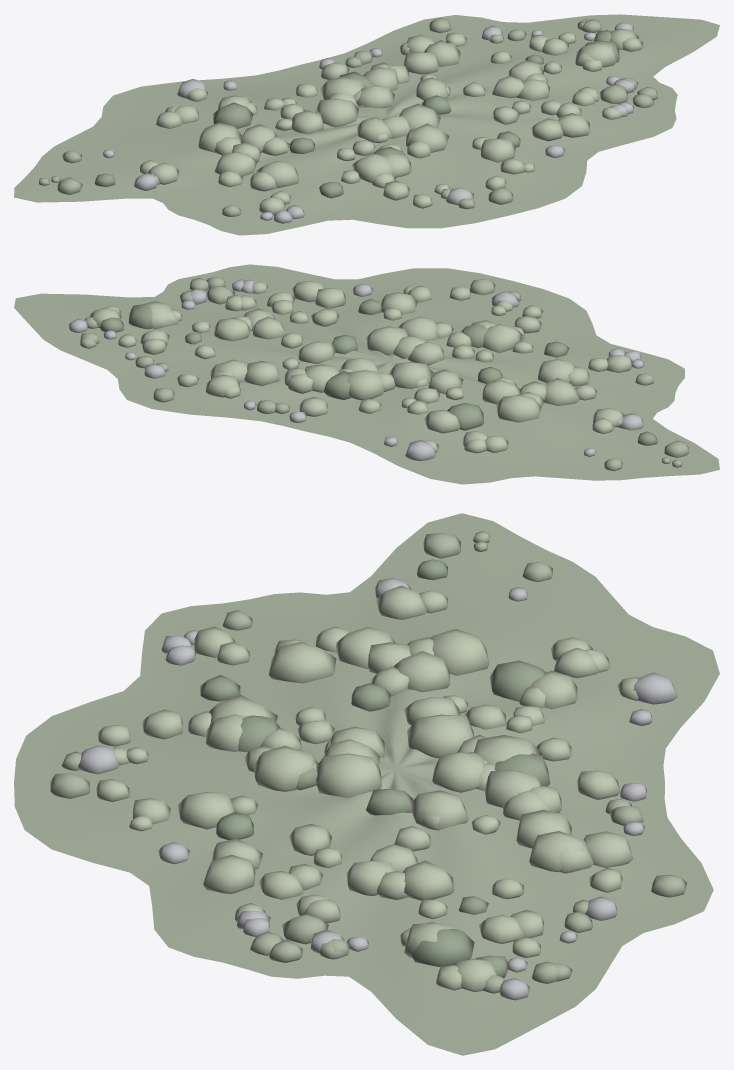
The model's file is SM_MR_Carbon_Accretion_01.fbx.
The picture shows the model from 3 angles, top to bottom: view 1: azimuth 30°, elevation 25°; view 2: azimuth 150°, elevation 25°; view 3: azimuth 270°, elevation 25°; orthographic projection. The views are drawn at different scales.
Parts seen in each view (by area): view 1: SM_MR_Carbon_Accretion_01; view 2: SM_MR_Carbon_Accretion_01; view 3: SM_MR_Carbon_Accretion_01.
Part boxes in pixels (x1,y1,x2,y2): SM_MR_Carbon_Accretion_01: [14, 14, 719, 235]; SM_MR_Carbon_Accretion_01: [14, 264, 719, 484]; SM_MR_Carbon_Accretion_01: [14, 513, 719, 1055].
Size of the model in its own units: 1.5 by 0.8241 by 0.0647.
